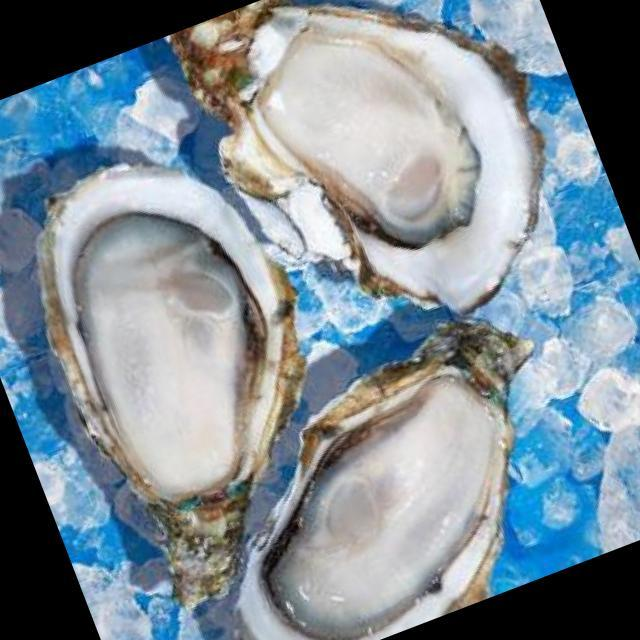Oyster-Open: (0, 114, 385, 629), (163, 0, 605, 380), (150, 290, 616, 638)
